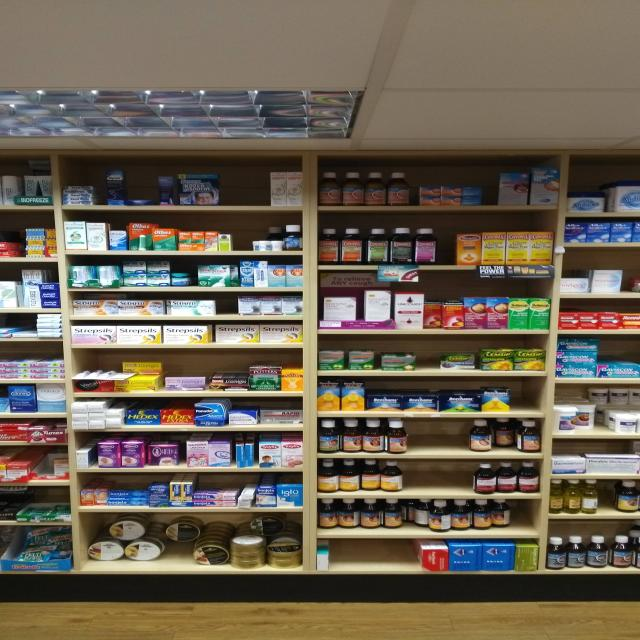void: (340, 539, 412, 571), (412, 462, 467, 494), (222, 170, 266, 205), (412, 420, 462, 450)
